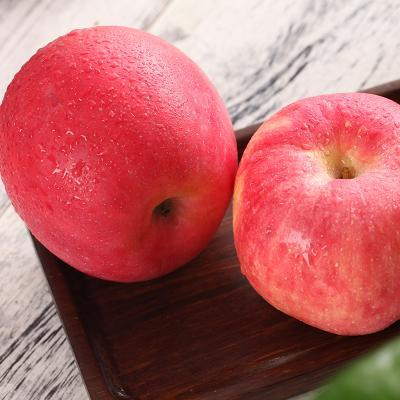apple: (1, 28, 242, 288), (231, 94, 398, 341)
